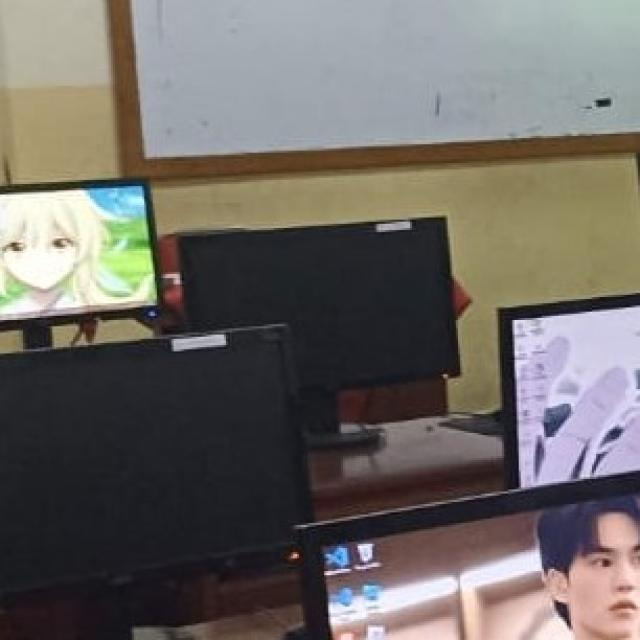offscreen: (1, 328, 310, 588), (180, 218, 459, 387)
onscreen: (301, 494, 640, 640), (500, 294, 640, 487), (0, 181, 158, 347)
